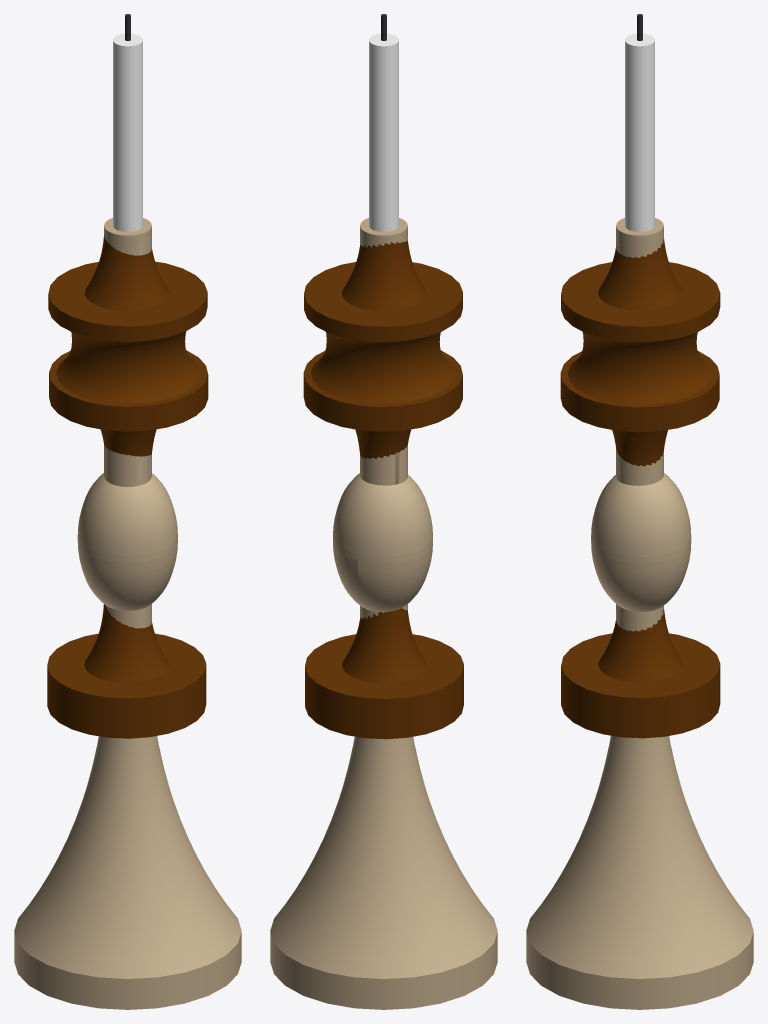
File: Kandelaar.fbx
3 views of the same model, side by side, from view 1: azimuth 30°, elevation 25°; view 2: azimuth 150°, elevation 25°; view 3: azimuth 270°, elevation 25° (orthographic).
Parts seen in each view (by area): view 1: Model; view 2: Model; view 3: Model.
Part boxes in pixels (left/top/right/bottom): Model: left=14, top=14, right=241, bottom=1009; Model: left=270, top=14, right=497, bottom=1009; Model: left=526, top=14, right=753, bottom=1009.
Bounding box in the file's own units: 100 × 459 × 100.
